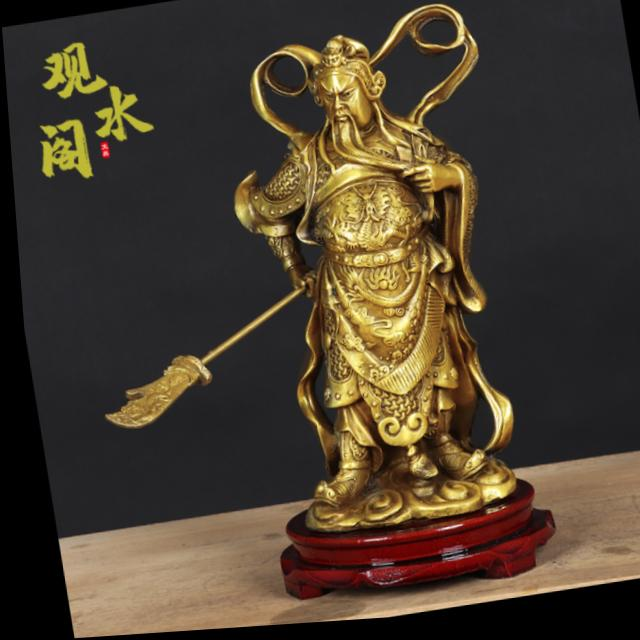Guan Yu: (196, 3, 546, 554)
